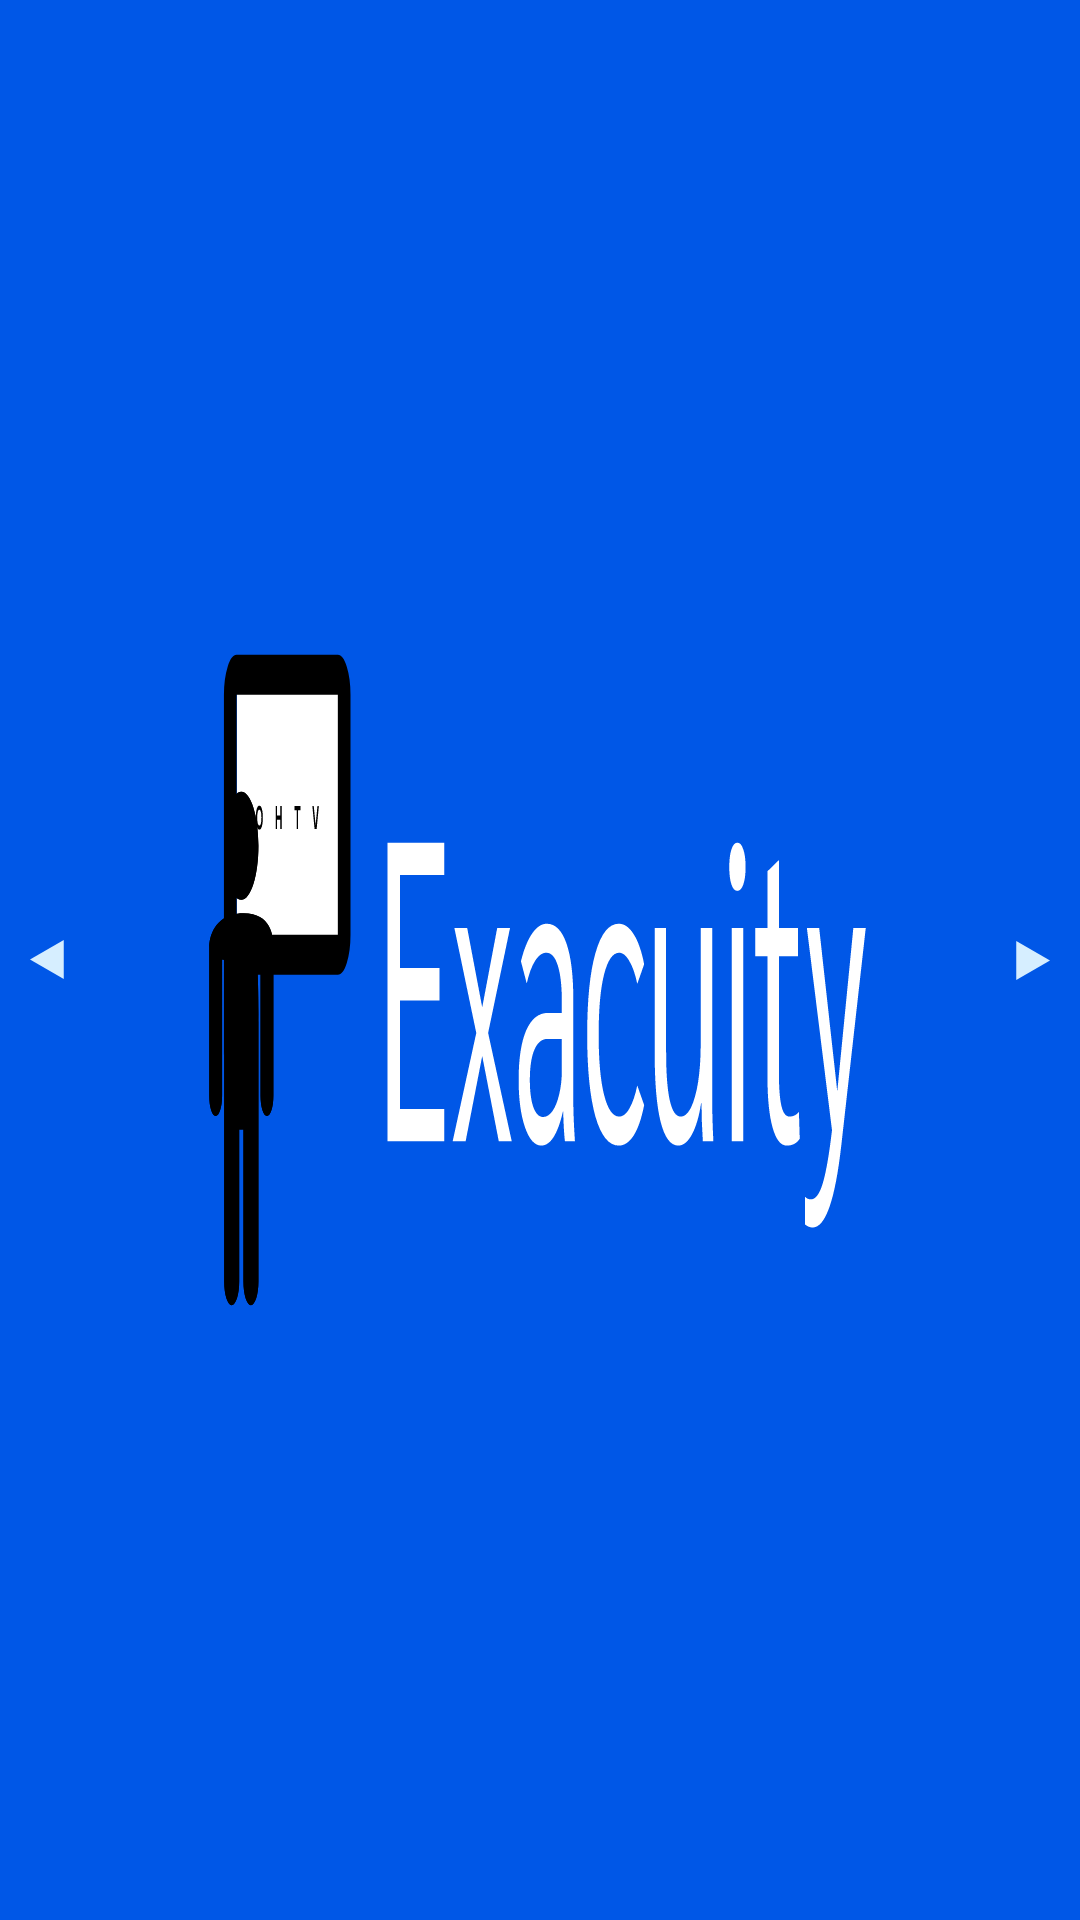

Icon click points for this 1080 x 1920 phone screenshot, format (x=x, y=y):
right arrow: (x=1033, y=960)
